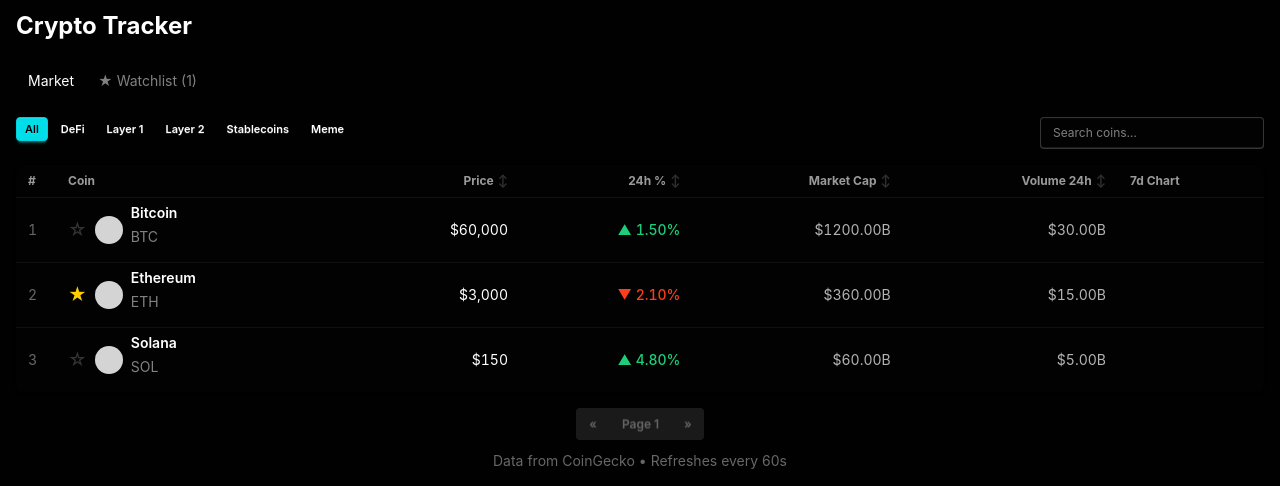
Test: watchlist tab › shows only watched coins
The image size is (1280, 486).
What coordinates should you click on to do the following:
click the button "★ Watchlist (1)"
I would click on:
 (148, 81)
Its box is [86,61,209,101].
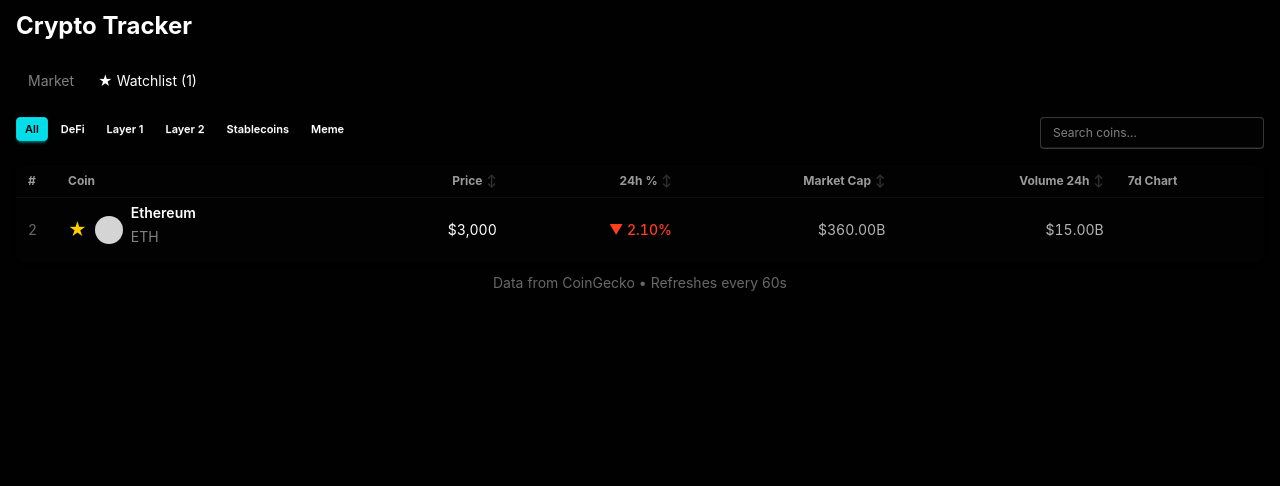
Expected: the text "Ethereum" is shown, [131,206,196,220]
Expected: the link "Bitcoin" is gone
Expected: the link "Solana" is gone
